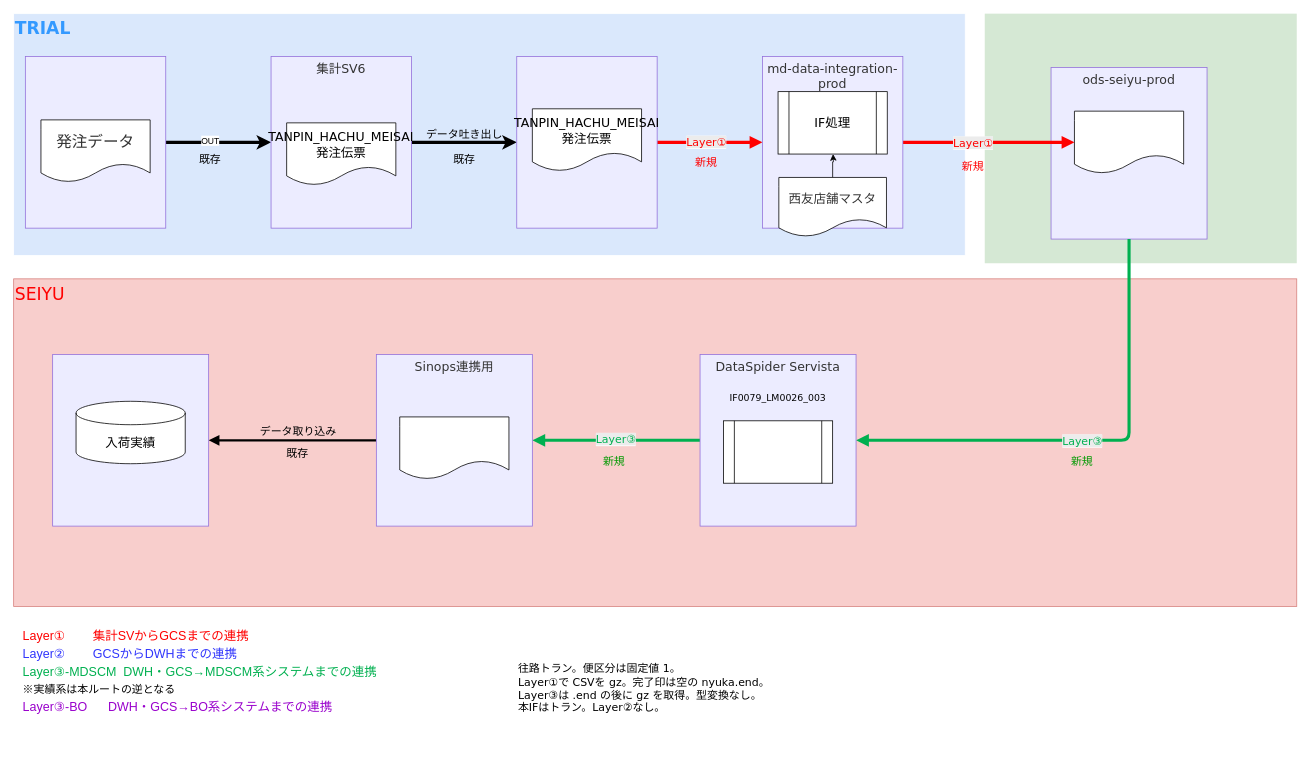
This 1310x768 diagram has some shape labels left out. Each missing label, with the box of its shape:
DataSpider 連携スクリプト: (723, 420, 833, 483)
IF0079_LM0026_012/YYYYMMDD/NYUKA_YOTEI_YYYYMMDDhhmmss.zip 空の NYUKA_YOTEI.END: (1074, 110, 1184, 174)
nyuka_yotei.txt: (399, 416, 509, 479)
Sinops-R6: (52, 354, 209, 526)
TRIAL基幹: (25, 56, 166, 228)
西友連携用GCS: (984, 13, 1296, 263)
集計用GCS: (516, 56, 657, 228)
